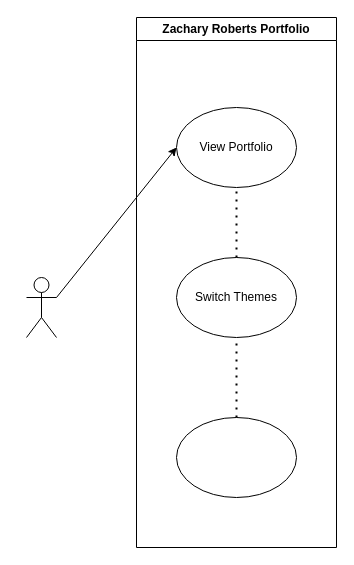
The diagram is 354 pixels wide and 565 high, and some of its shapes have lost their labels. Each missing label, with the box of its shape:
Recruiter: (26, 276, 56, 338)
Submit Contact Form: (176, 416, 296, 498)
